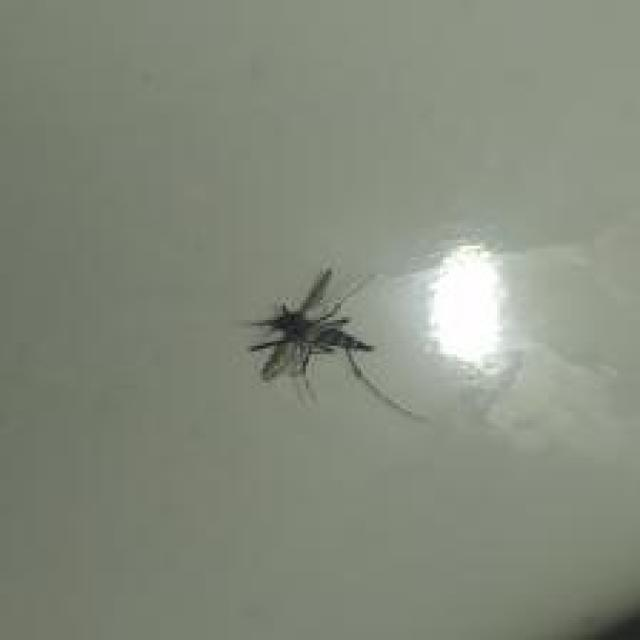Aedes albopictus: (244, 266, 427, 423)
